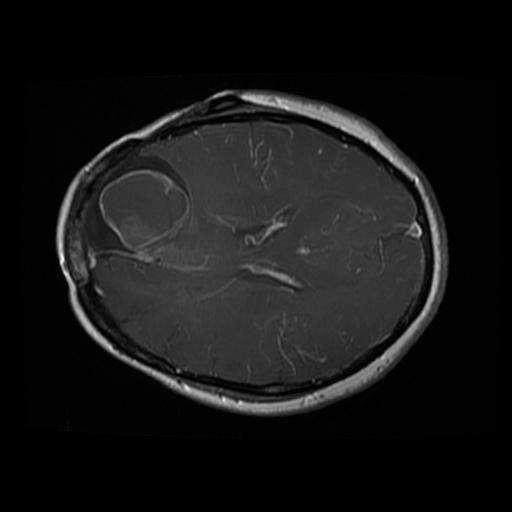glioma: (82, 154, 210, 277)
